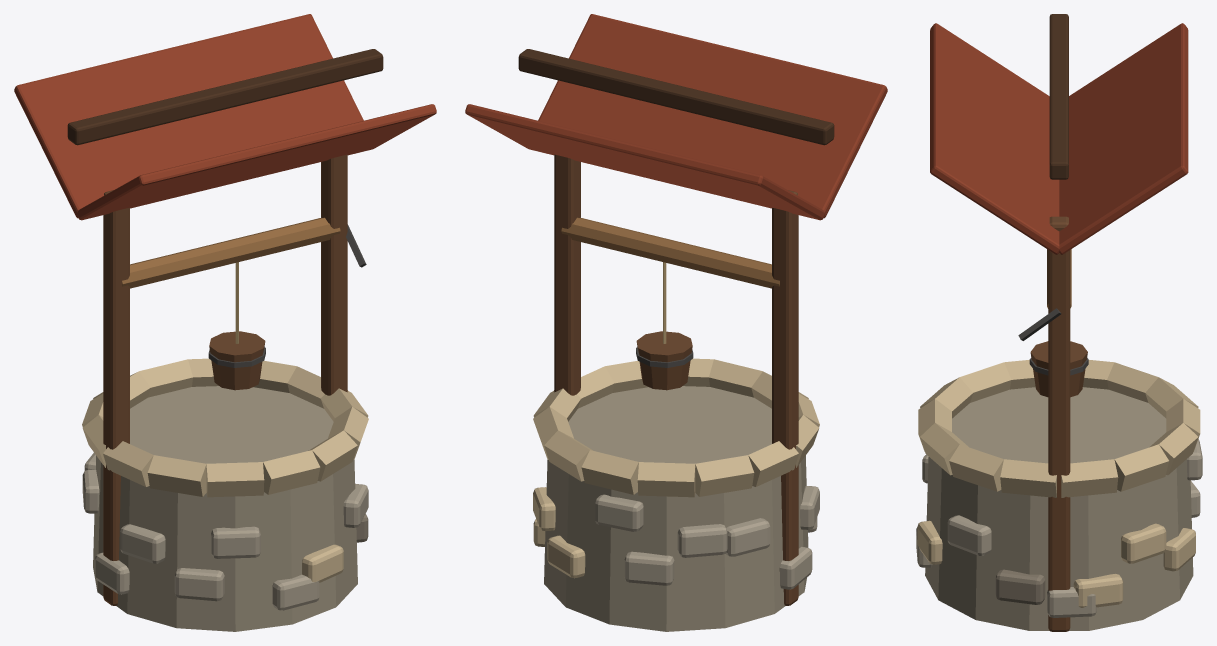
The model's file is puits.glb.
The picture shows the model from 3 angles, left to right: view 1: azimuth 30°, elevation 25°; view 2: azimuth 150°, elevation 25°; view 3: azimuth 270°, elevation 25°; orthographic projection.
Parts seen in each view (by area): view 1: puits; view 2: puits; view 3: puits.
Boxes of the visible parts, x1,y1,x2,y2 form: puits: [14, 14, 436, 631]; puits: [465, 14, 887, 631]; puits: [916, 14, 1202, 631].
Bounding box in the file's own units: 2.6 × 3.93 × 2.09.
